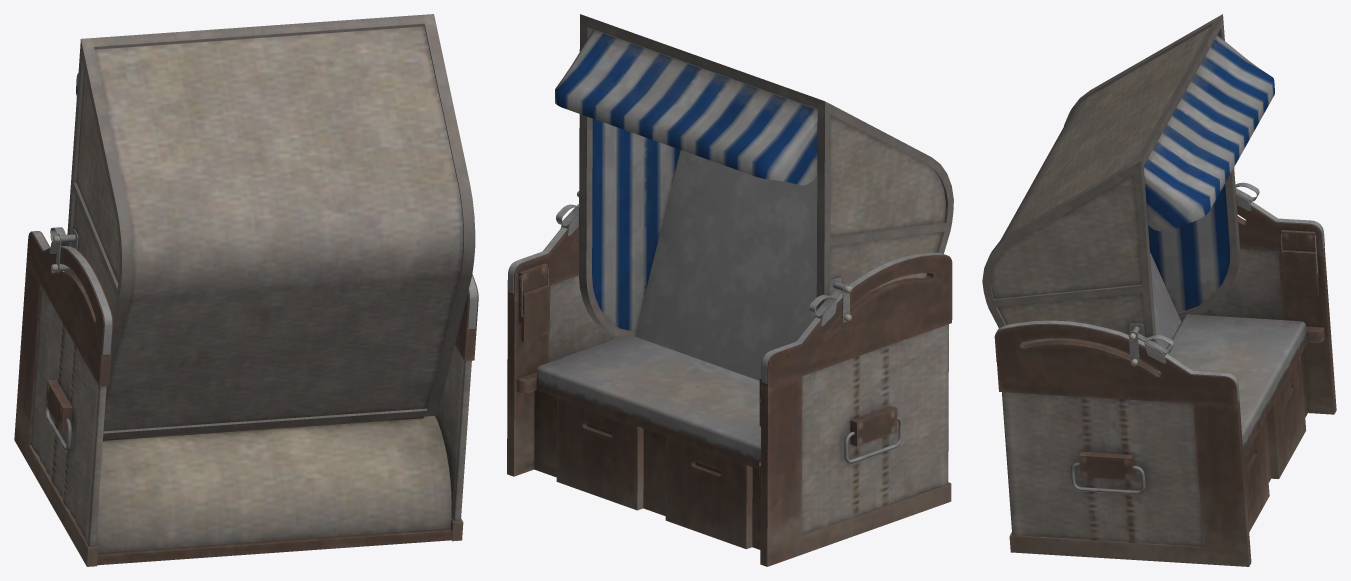
The model's file is ItemSpot.fbx.
3 renders of one model, left to right at view 1: azimuth 30°, elevation 25°; view 2: azimuth 150°, elevation 25°; view 3: azimuth 270°, elevation 25°, orthographic. The views are drawn at different scales.
Parts seen in each view (by area): view 1: ItemBox_BeachChair; view 2: ItemBox_BeachChair; view 3: ItemBox_BeachChair.
Boxes of the visible parts, box(x1,y1,x2,y2) form: ItemBox_BeachChair: box(14, 14, 478, 566); ItemBox_BeachChair: box(507, 14, 953, 566); ItemBox_BeachChair: box(982, 14, 1336, 566).
Bounding box in the file's own units: 2.04 × 2.37 × 1.79.
1 material, 1 textured.
